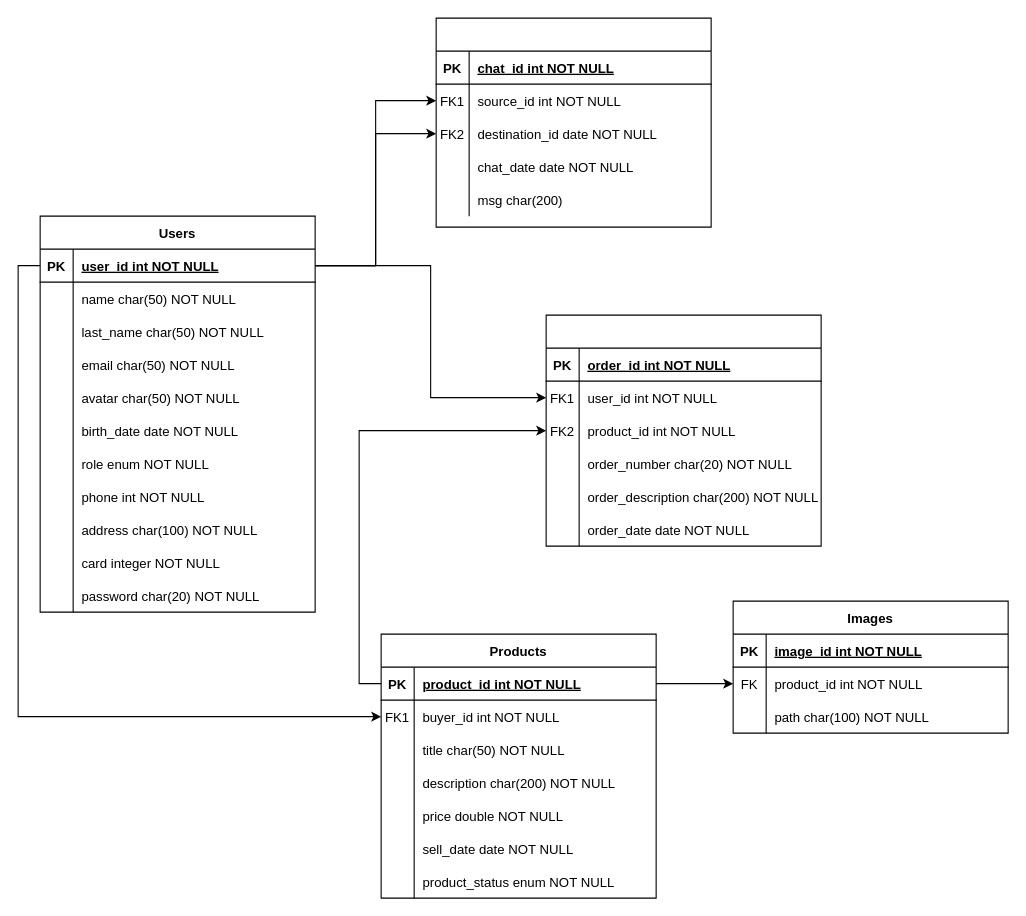
Some shapes in this 1026 by 916 pixel diagram are drawn without their labels. Here are the shapes that lost their labels. From the top down, the box of each, then its label:
(435, 17, 711, 227): Chats
(545, 314, 821, 546): Orders
